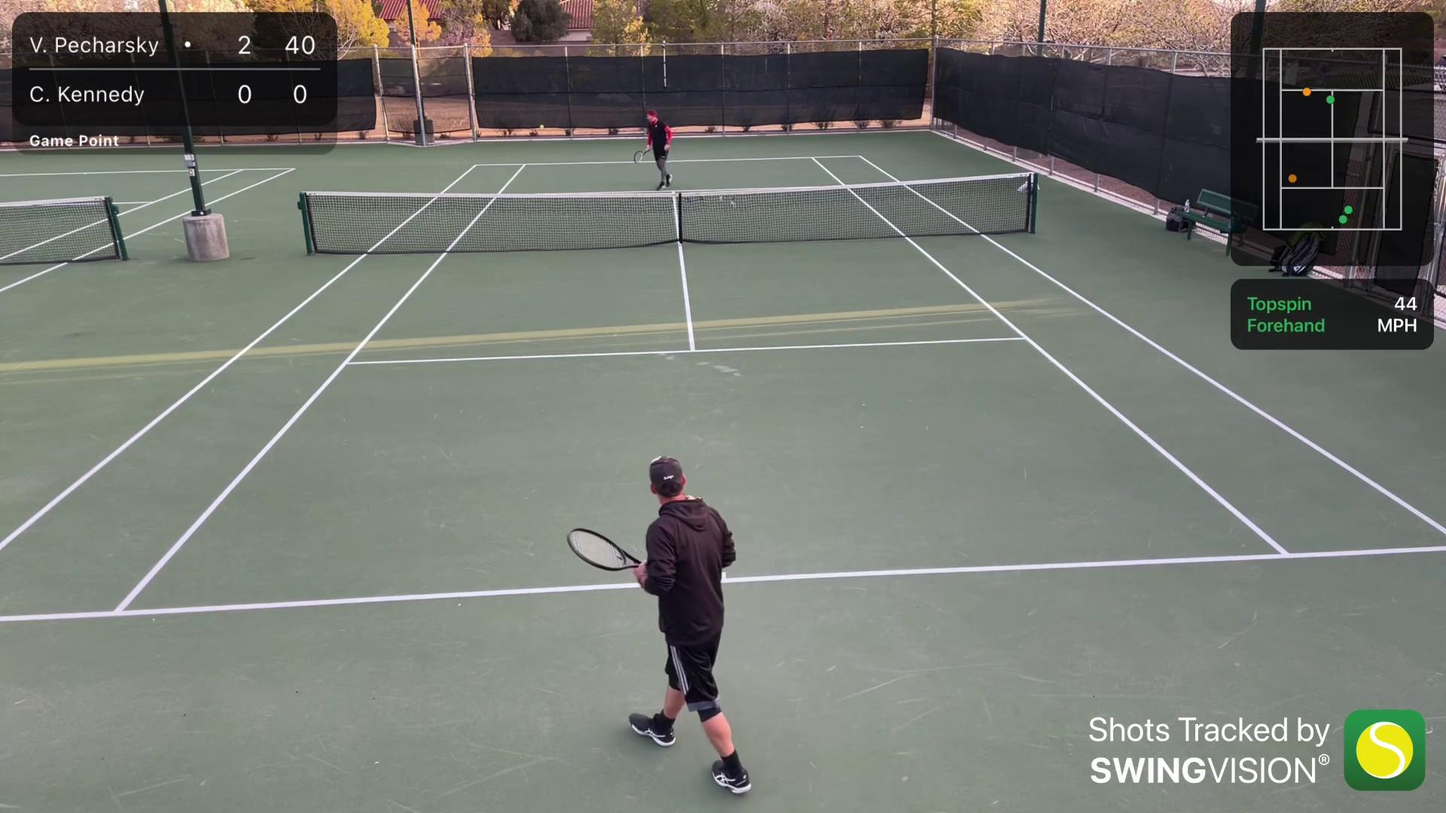ball: (538, 124, 545, 131)
